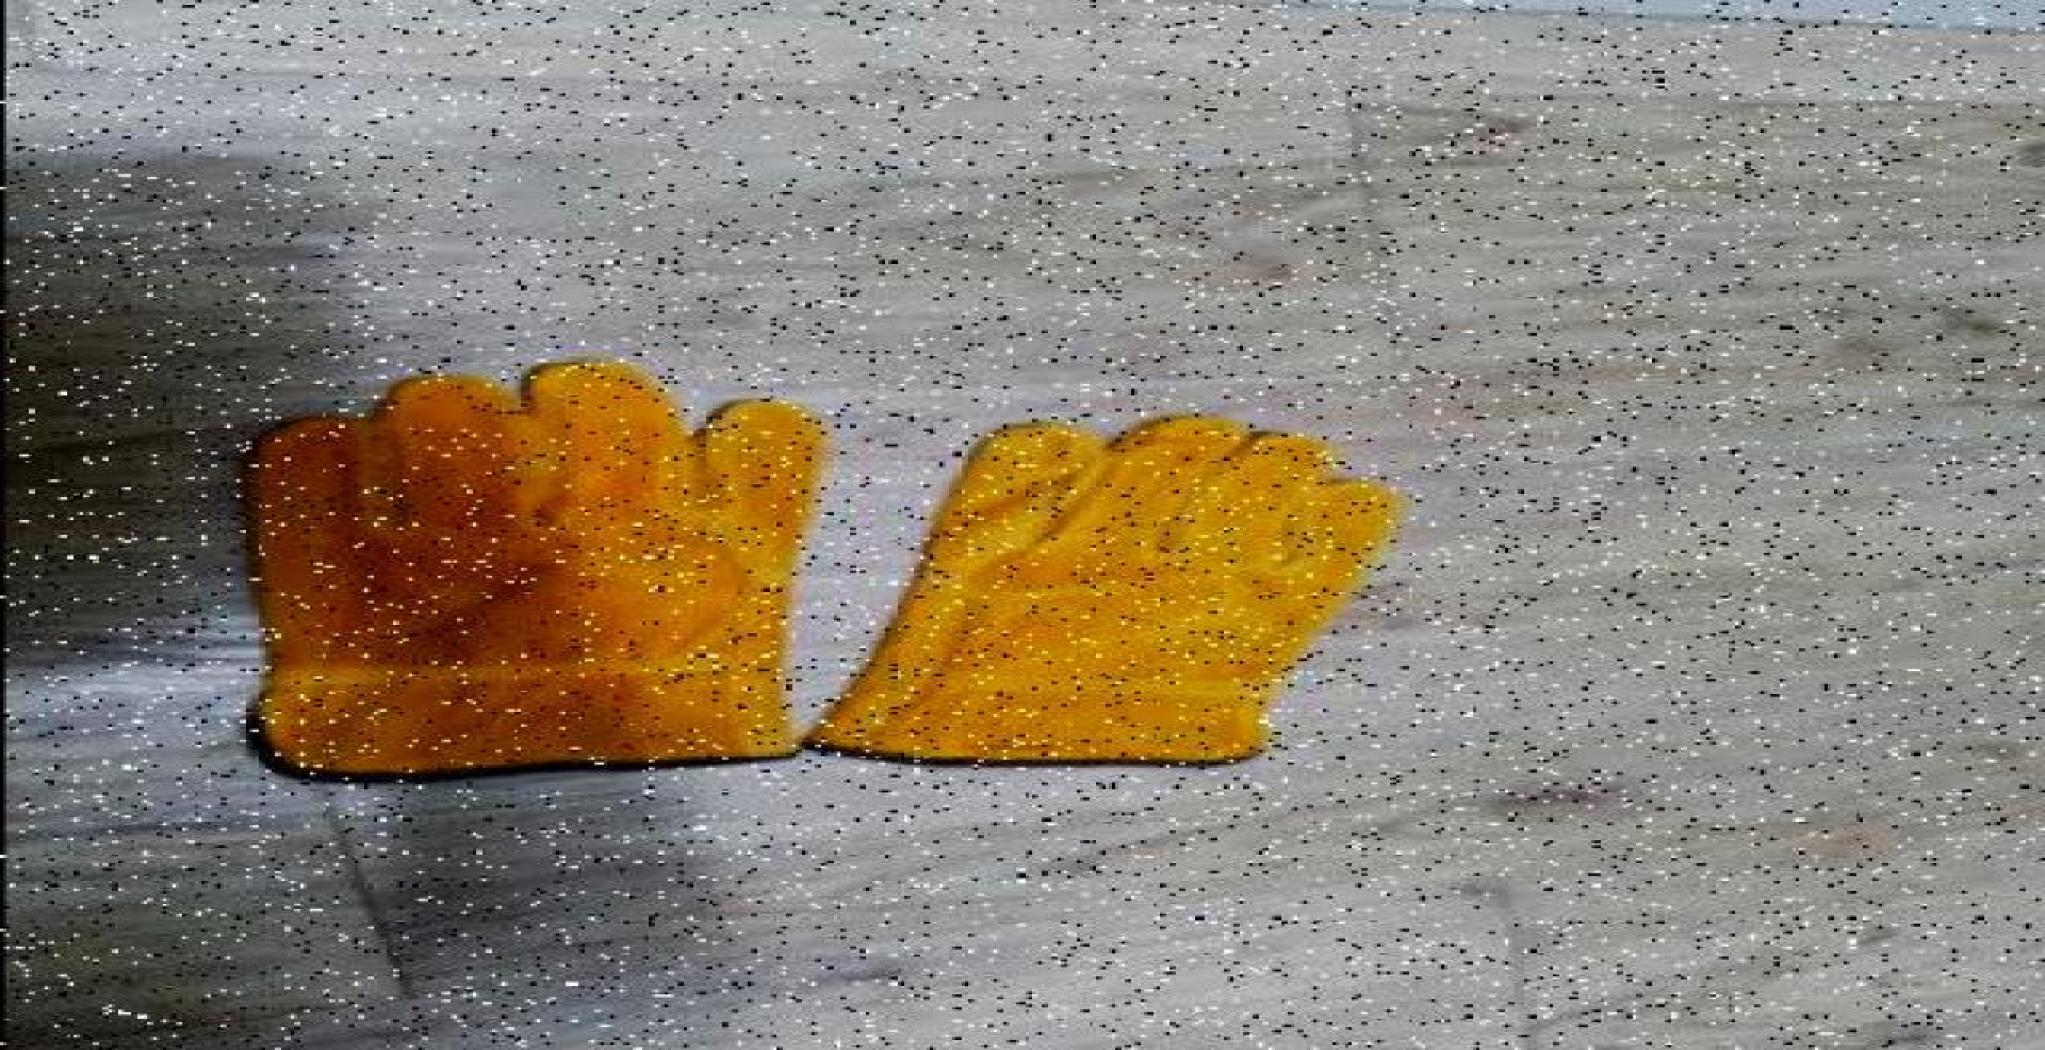gloved: (228, 371, 808, 786), (899, 384, 1405, 777)
